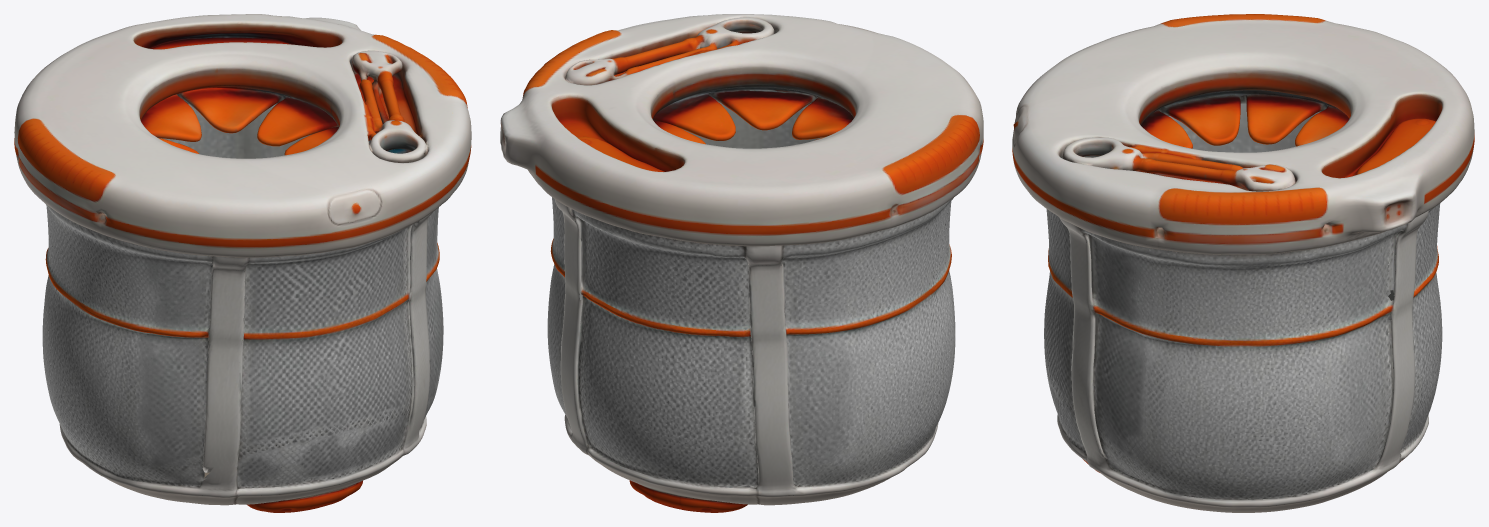
The model's file is tewak.glb.
3 renders of one model, left to right at view 1: azimuth 30°, elevation 25°; view 2: azimuth 150°, elevation 25°; view 3: azimuth 270°, elevation 25°, orthographic.
Parts seen in each view (by area): view 1: tripo_node_7596efd7; view 2: tripo_node_7596efd7; view 3: tripo_node_7596efd7.
Part boxes in pixels (left/top/right/bottom): tripo_node_7596efd7: left=14, top=14, right=471, bottom=512; tripo_node_7596efd7: left=500, top=14, right=983, bottom=512; tripo_node_7596efd7: left=1012, top=14, right=1474, bottom=512.
Size of the model in its own units: 97.84 by 85.6 by 97.82.
1 material, 1 textured.
